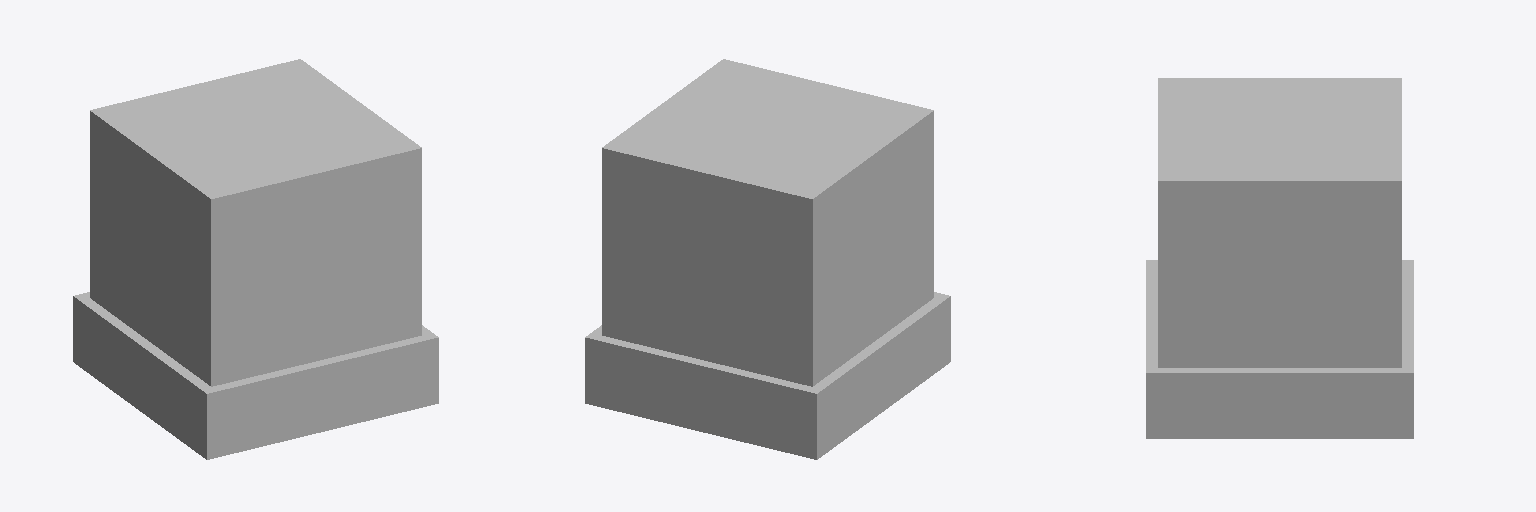
The model's file is reflective_head.obj.
3 views of the same model, side by side, from view 1: azimuth 30°, elevation 25°; view 2: azimuth 150°, elevation 25°; view 3: azimuth 270°, elevation 25° (orthographic).
Parts seen in each view (by area): view 1: helmet, cube; view 2: helmet, cube; view 3: helmet, cube.
Boxes of the visible parts, x1,y1,x2,y2 form: helmet: [90, 59, 421, 386]; cube: [73, 292, 438, 459]; helmet: [602, 59, 933, 386]; cube: [585, 292, 950, 459]; helmet: [1158, 78, 1401, 367]; cube: [1146, 260, 1413, 438].
Bounding box in the file's own units: 0.6875 × 0.7188 × 0.6875.